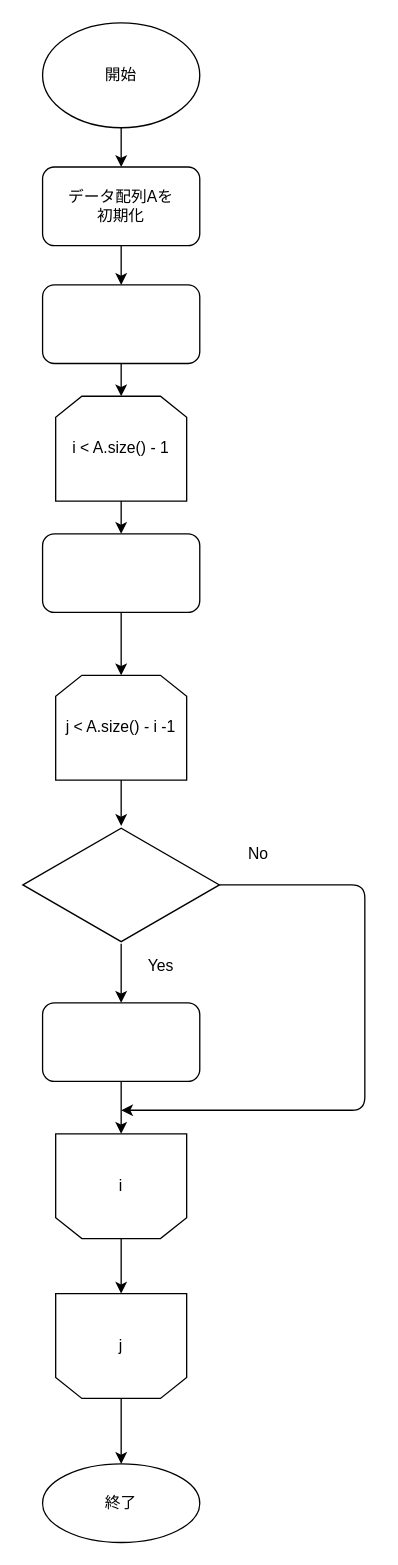
Image size: 398x1565. Some labels were removed from this diagram. Here are the shapes that lost their labels. From the top down, the centre of each, then its label:
At point 120,324: "i ← 0".
At point 120,572: "j ← 0".
At point 120,884: "A[ j ] > A[ j + 1 ]".
At point 120,1041: "A[ j ] と A[ j + 1 ]を 交換".
